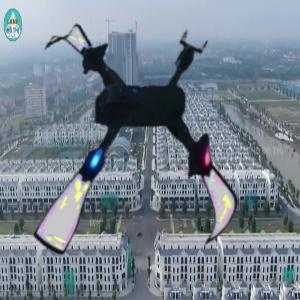drone: (6, 16, 272, 282)
